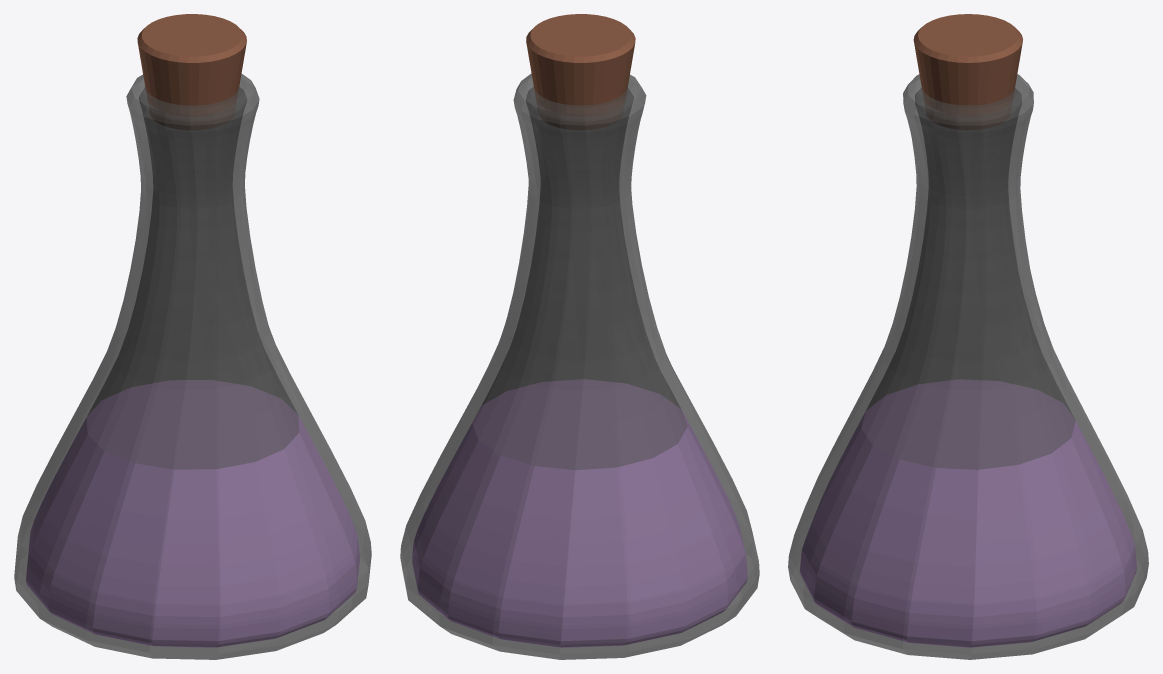
File: potion1_shade1.fbx
3 views of the same model, side by side, from view 1: azimuth 30°, elevation 25°; view 2: azimuth 150°, elevation 25°; view 3: azimuth 270°, elevation 25° (orthographic).
Visible parts, largest first — view 1: potion3.001; view 2: potion3.001; view 3: potion3.001.
Boxes of the visible parts, left/top/right/bottom form: potion3.001: left=14, top=14, right=371, bottom=659; potion3.001: left=400, top=14, right=759, bottom=659; potion3.001: left=788, top=14, right=1148, bottom=659.
Size of the model in its own units: 32.79 by 56.71 by 32.79.
